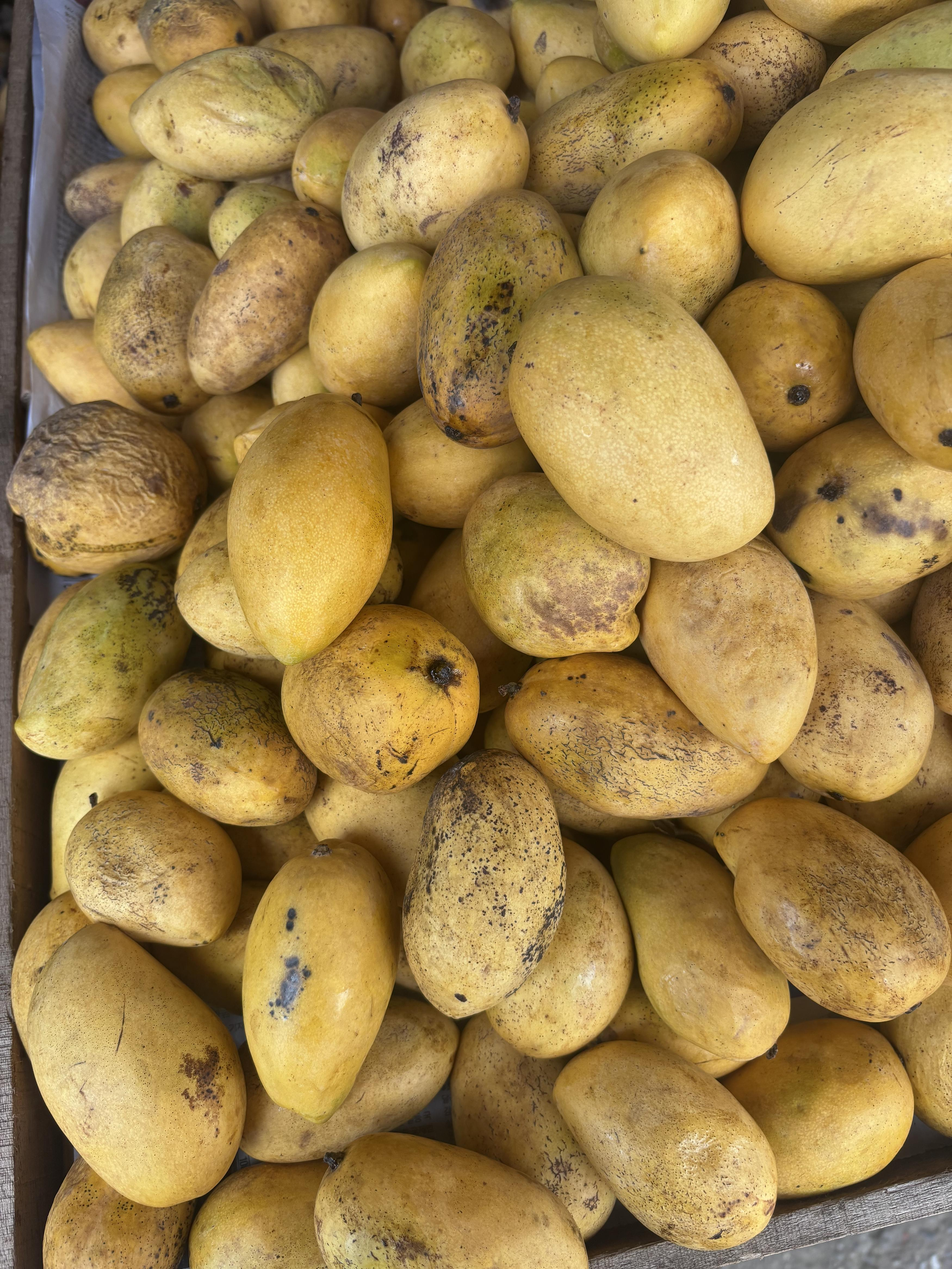mango: (716, 799, 950, 1022), (403, 751, 565, 1018)
occluded: (506, 654, 766, 820), (282, 605, 479, 793)
